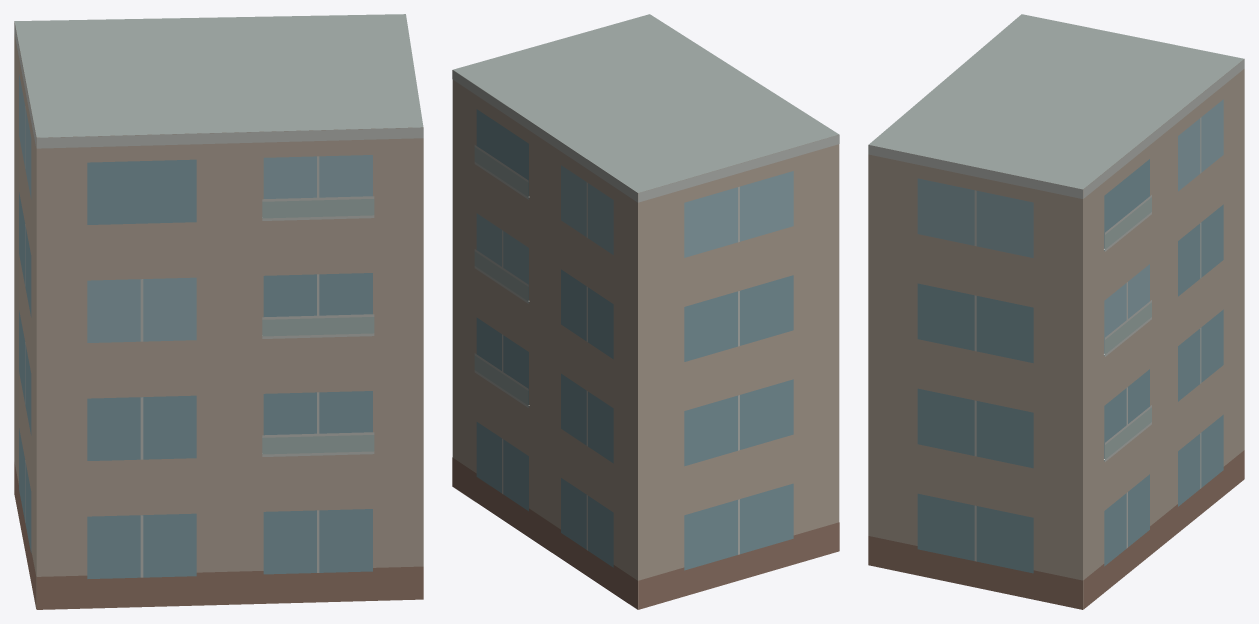
Rendered from survey-upis-33027929.glb.
3 renders of one model, left to right at view 1: azimuth 30°, elevation 25°; view 2: azimuth 150°, elevation 25°; view 3: azimuth 270°, elevation 25°, orthographic. The views are drawn at different scales.
Parts seen in each view (by area): view 1: survey-upis-33027929.tmp; view 2: survey-upis-33027929.tmp; view 3: survey-upis-33027929.tmp.
Boxes of the visible parts, x1,y1,x2,y2 form: survey-upis-33027929.tmp: (14, 14, 423, 609); survey-upis-33027929.tmp: (452, 14, 839, 609); survey-upis-33027929.tmp: (868, 14, 1244, 609).
Bounding box in the file's own units: 9.5 × 10.6 × 8.6.
